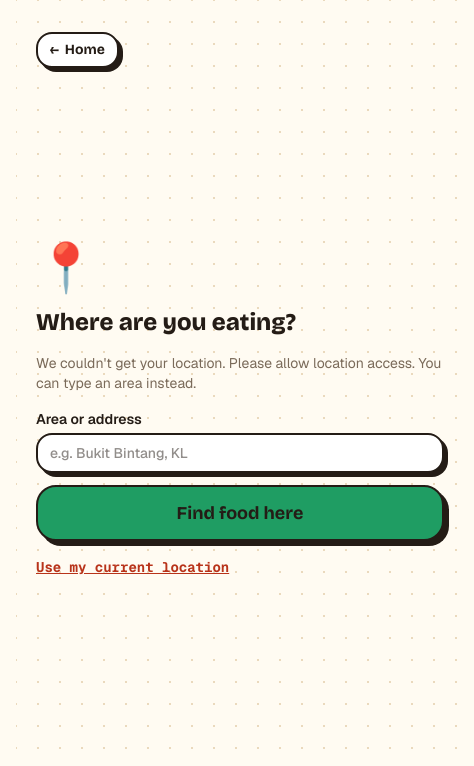
Test: LocationGate › shows the search error when the area isn't found
The image size is (474, 766).
Type "nowhere" into the field labelled "Area or address" at coordinates (240, 453), box 36,433 -> 444,473
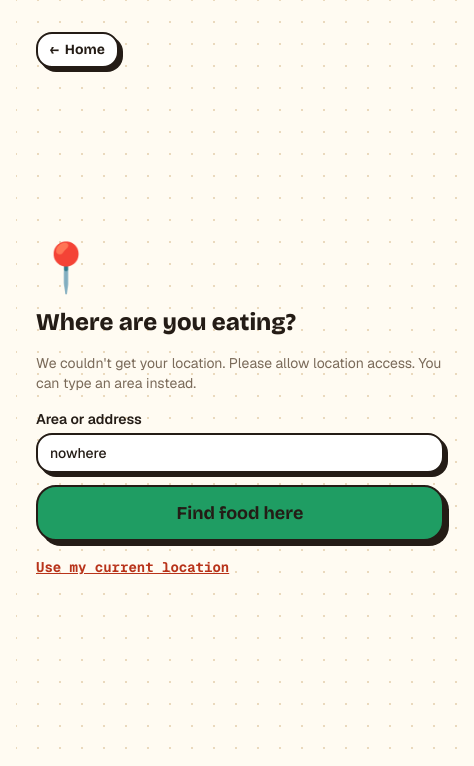
Click the button "Find food here" at coordinates (240, 513), box 36,485 -> 444,541
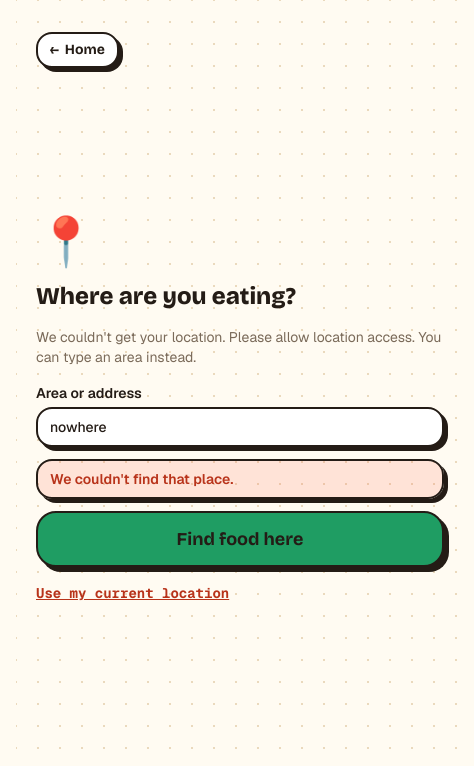
Result: the message reads "We couldn't find that place." at 50,470 -> 233,488
